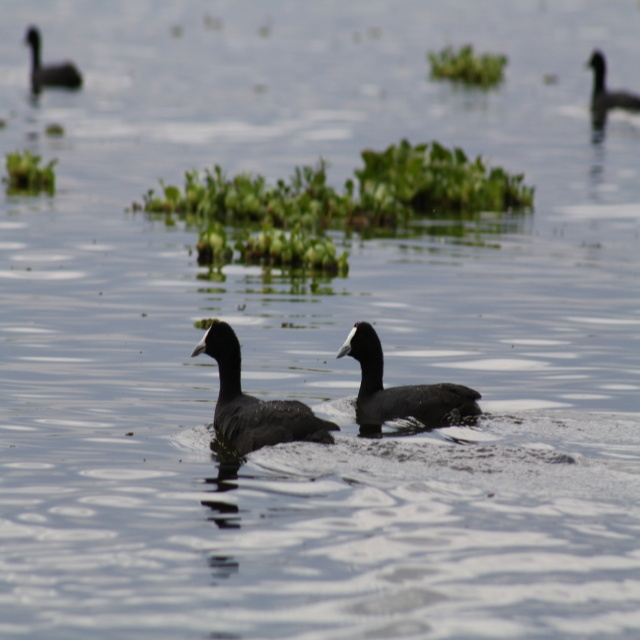Duck: (192, 320, 338, 457), (335, 322, 483, 423), (22, 24, 82, 95), (588, 51, 640, 110)
